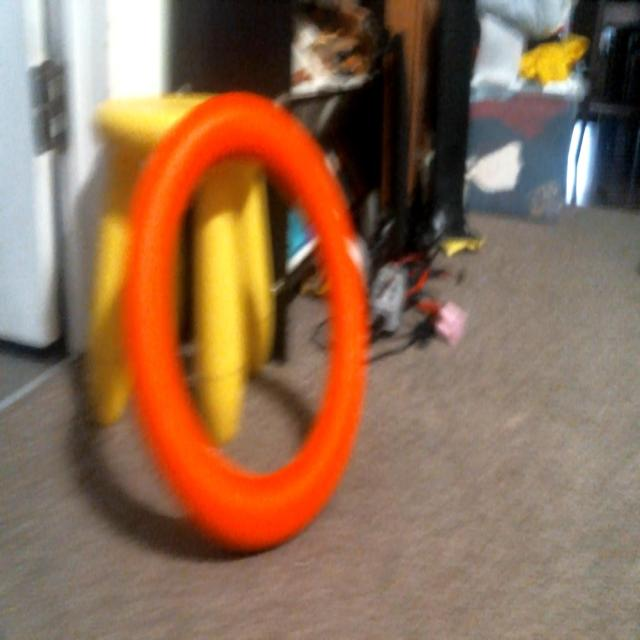note: (121, 89, 367, 551)
